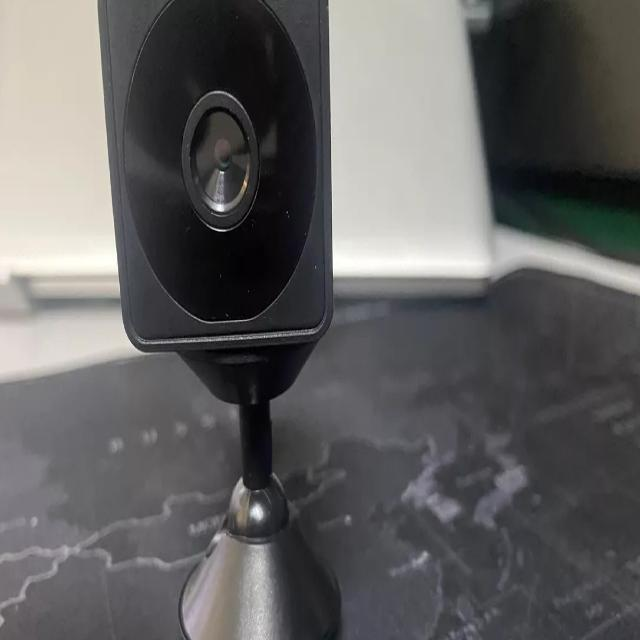hidden camera: (181, 92, 260, 233)
